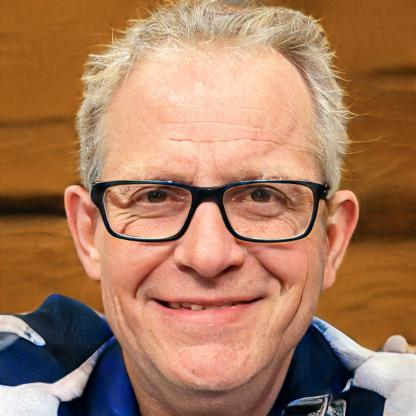glasses: (86, 175, 324, 245)
